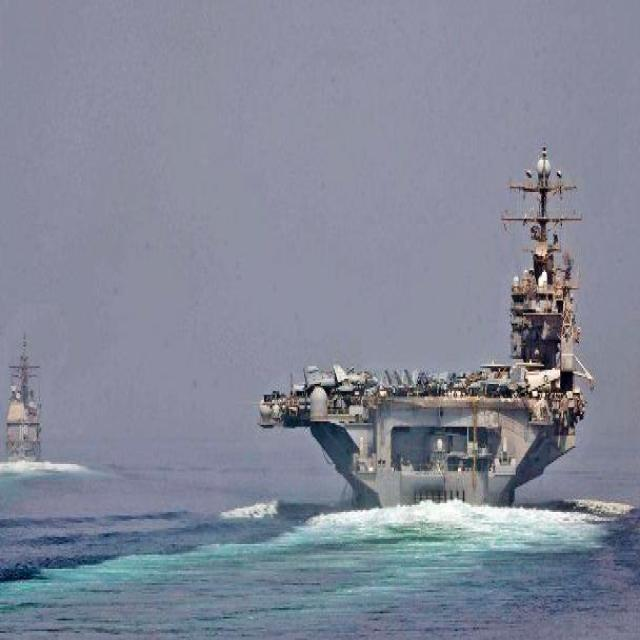navalvessels: (255, 143, 581, 519), (3, 330, 43, 467)
